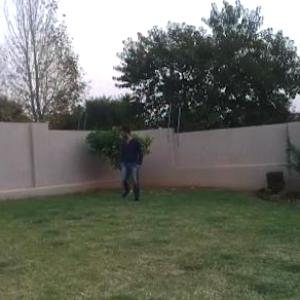follow: (118, 123, 143, 204)
